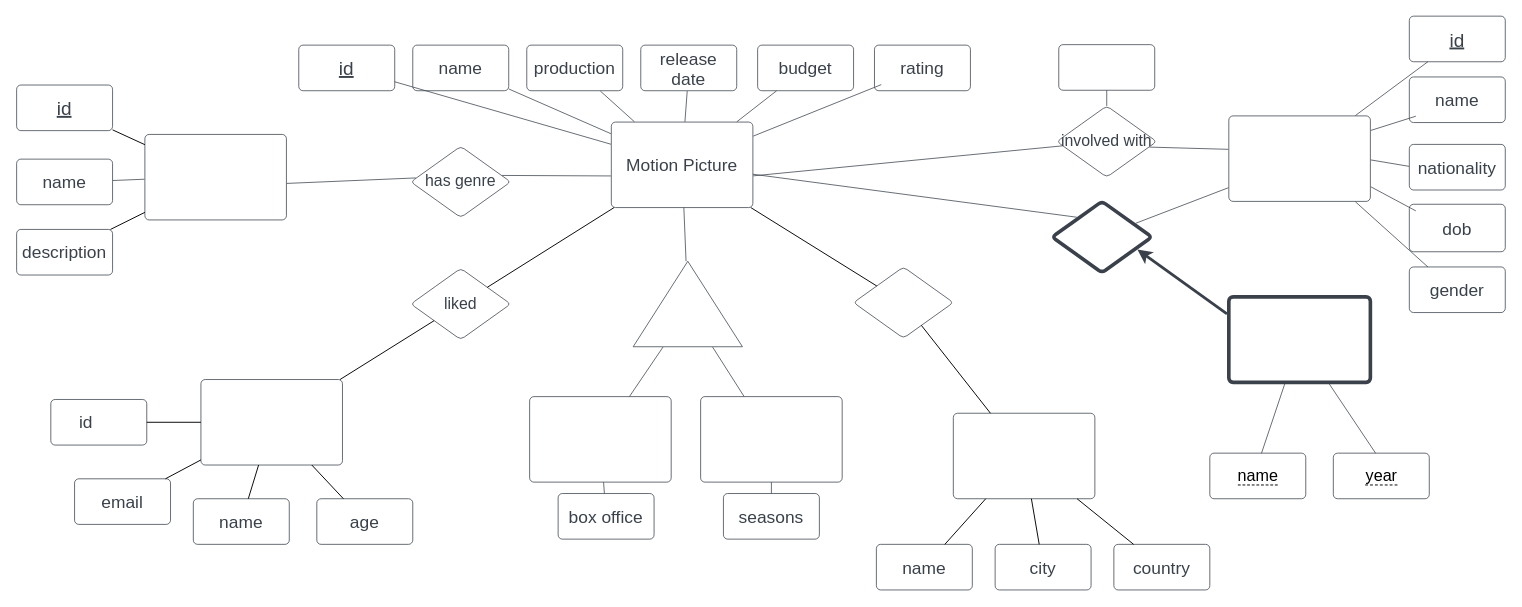
This 1522x607 diagram has some shape labels left out. The centre of each missing label's shape, as x and y in pixels:
"Award" goes at (1299,339).
"Genre" goes at (215,177).
"ISA" goes at (687,303).
"Location" goes at (1023,455).
"Movie" goes at (600,439).
"Person" goes at (1299,158).
"role" goes at (1106,67).
"Series" goes at (771,439).
"shot in" goes at (903,302).
"User" goes at (271,422).
"won award" goes at (1101,236).
